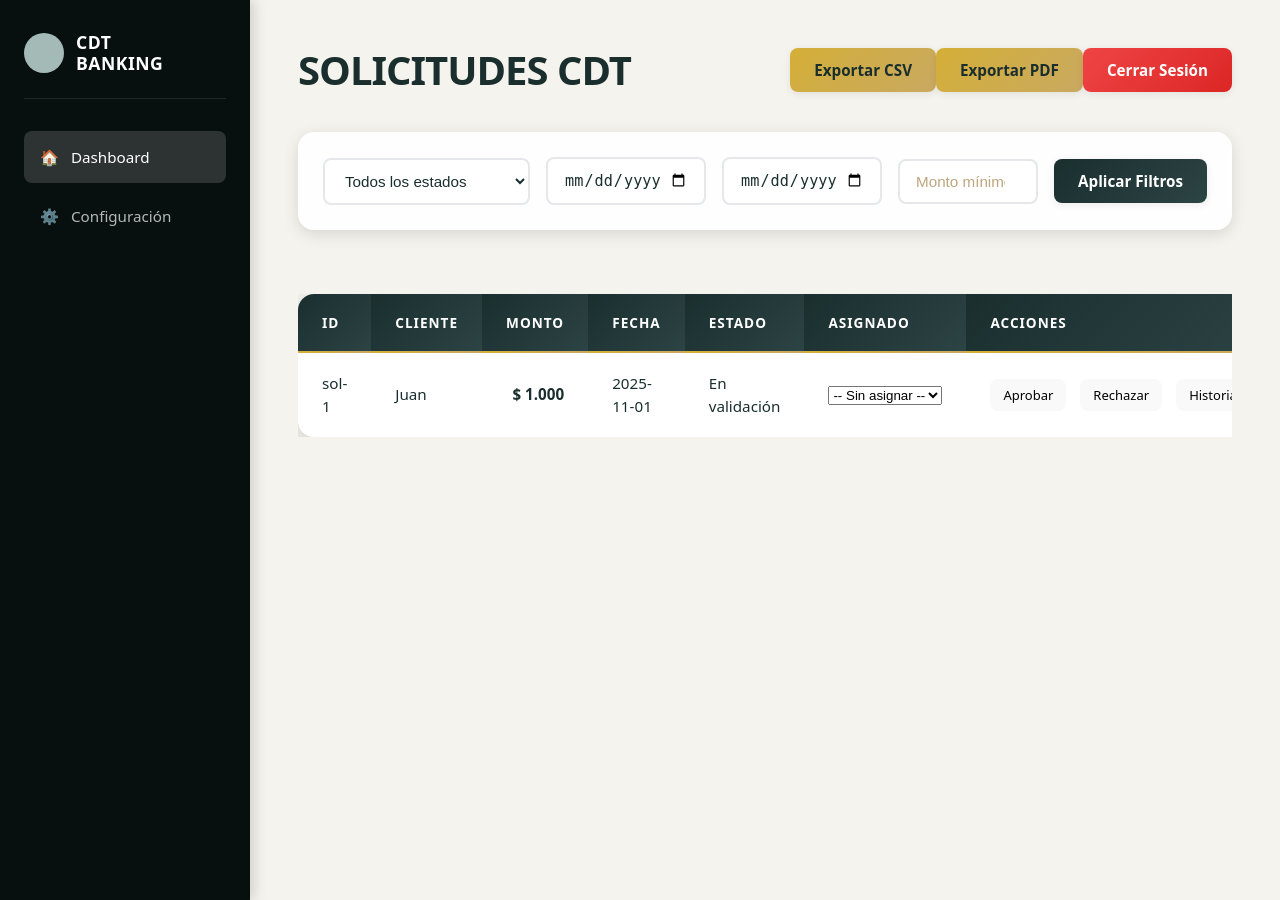
Scenario: AgenteDashboard Component › debe abrir modal de historial
Expected: the text "Juan" is shown, [371,353,482,437]
# ✅ FIX: Usar getAllByText y seleccionar el botón (último elemento)
Click the button "Historial": click(1215, 395) [1176,379,1253,411]
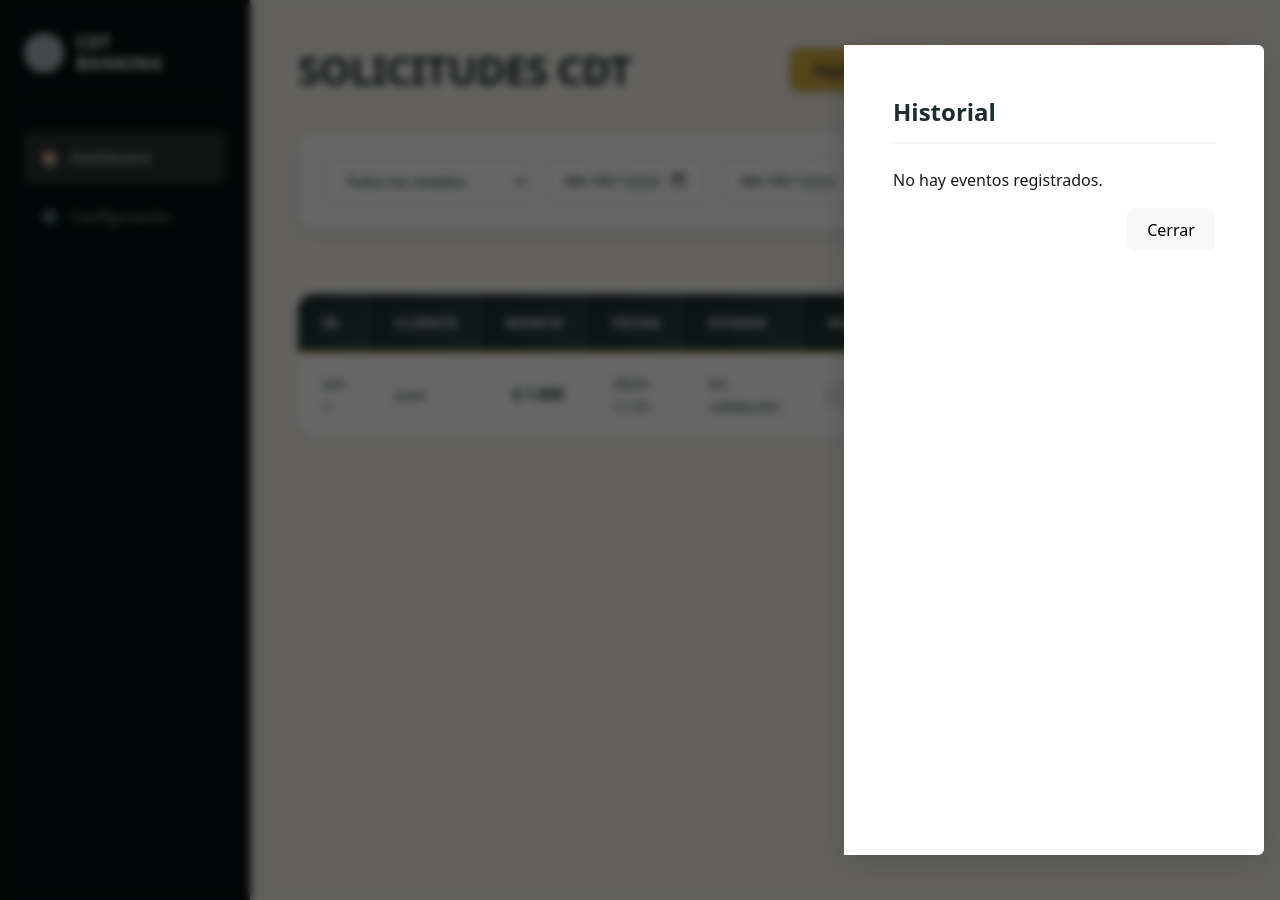
Now the button "Cerrar" is shown, box [1127,208,1215,251]
